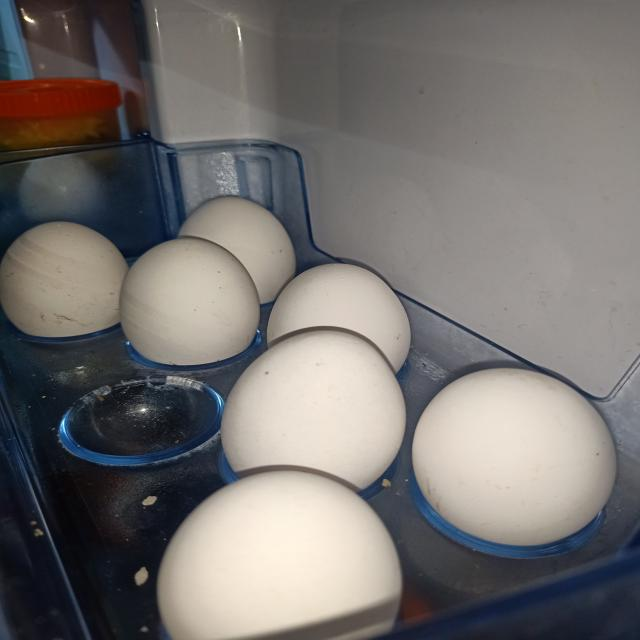Egg: (157, 471, 401, 640), (411, 369, 617, 559), (221, 330, 405, 492), (119, 237, 259, 366), (267, 264, 411, 373), (0, 221, 128, 339), (178, 196, 295, 304)
